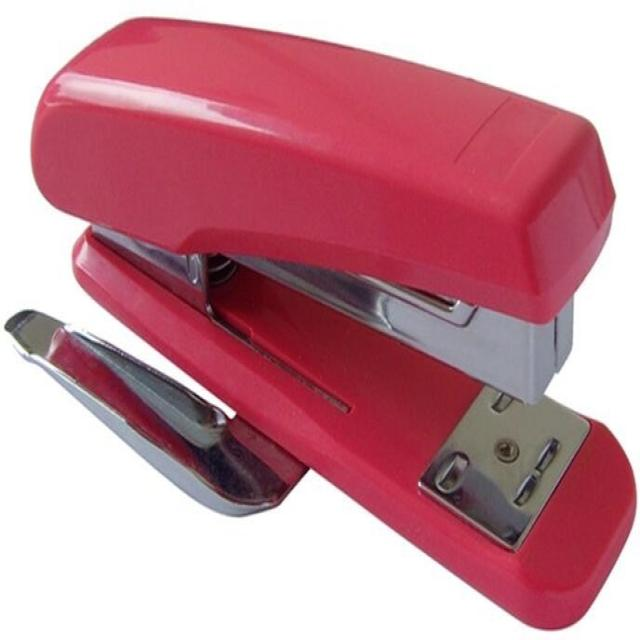Stapler: (0, 0, 586, 559)
